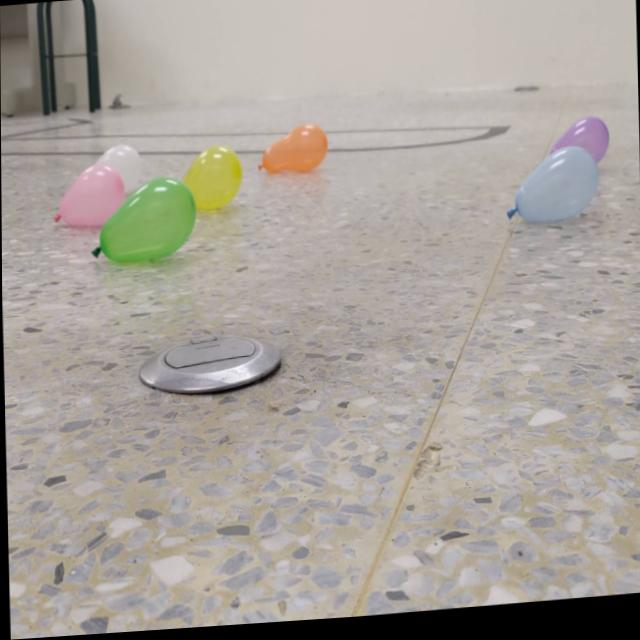other: (88, 177, 195, 267), (504, 152, 599, 234), (50, 164, 124, 229), (178, 146, 243, 215), (256, 124, 327, 177), (546, 123, 610, 171), (95, 143, 144, 196)
